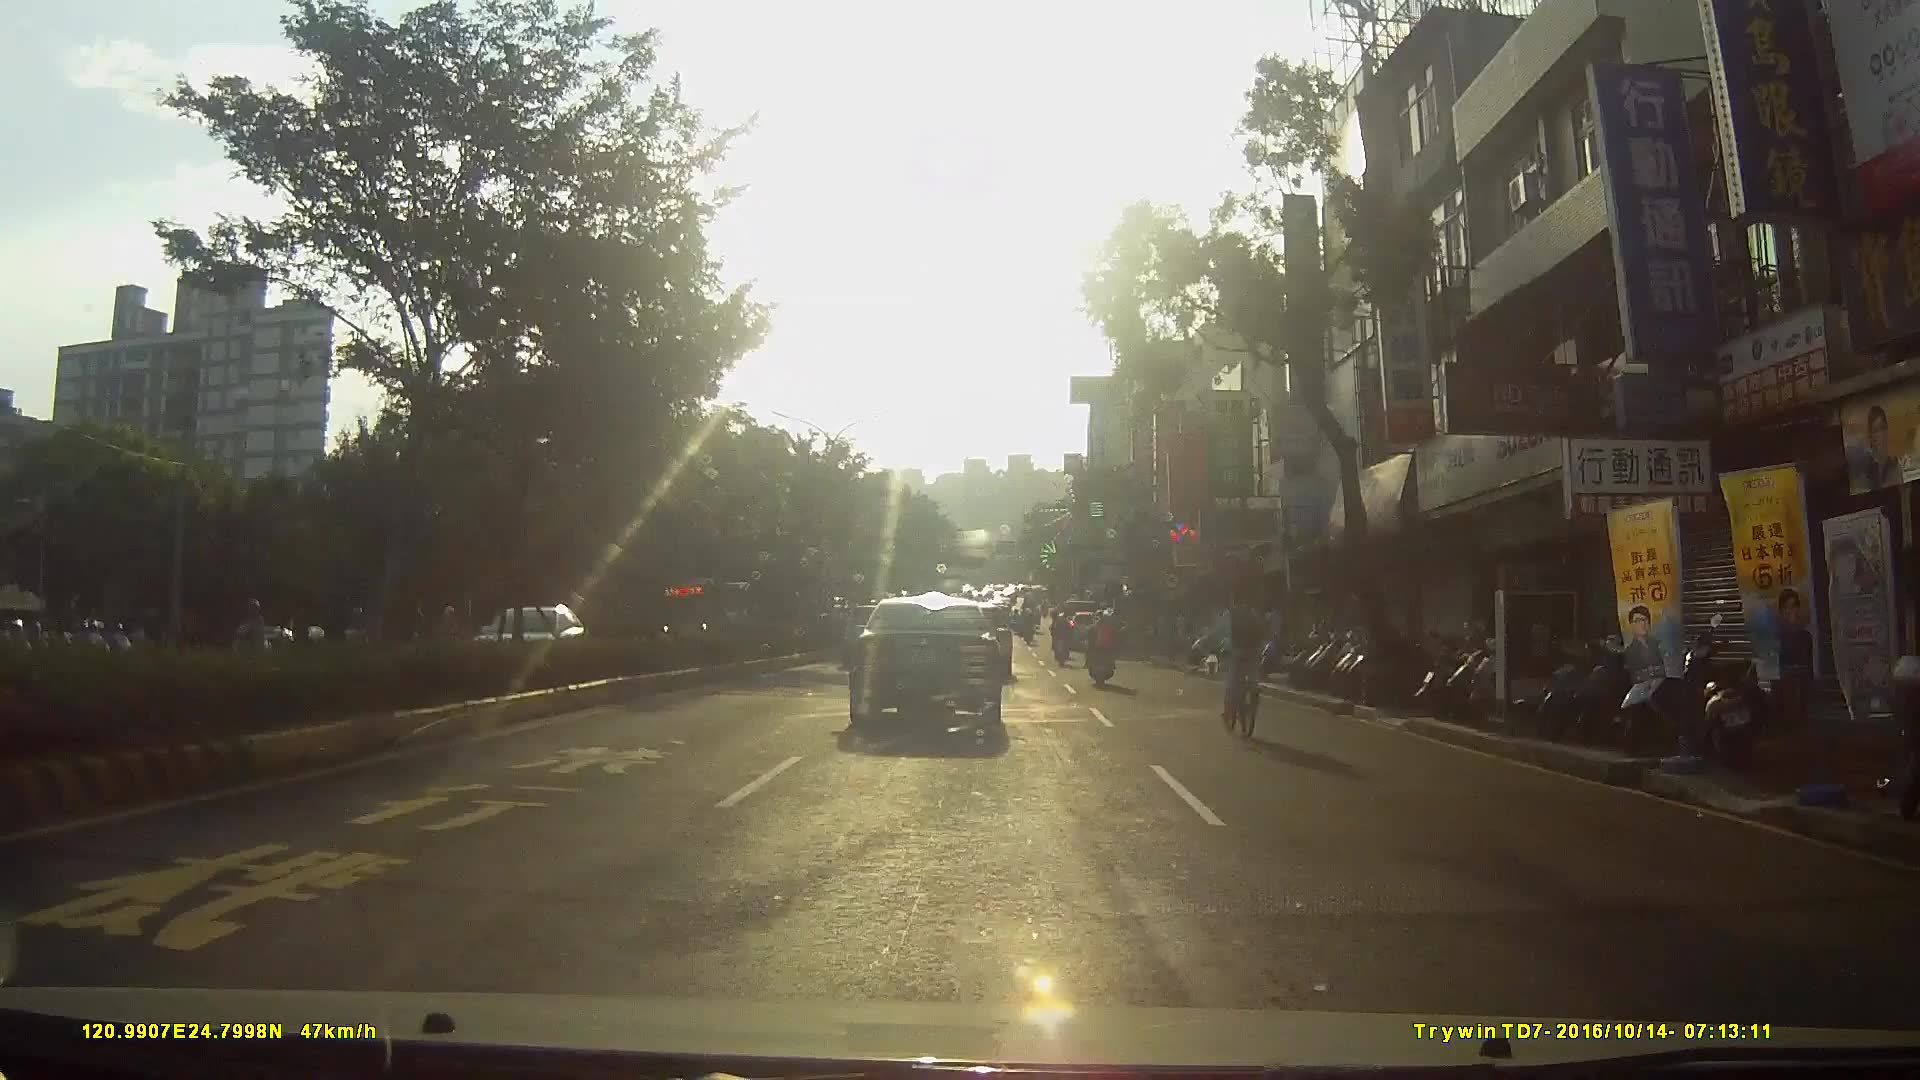rider: (1211, 584, 1281, 740), (220, 601, 289, 688), (1086, 612, 1119, 690), (1049, 611, 1075, 667)
vehicle: (849, 605, 1019, 754), (472, 609, 605, 689)
